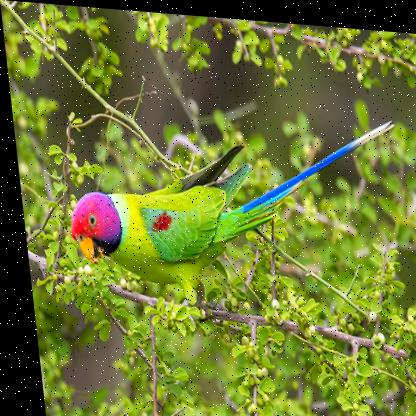Burung: (54, 93, 410, 315)
